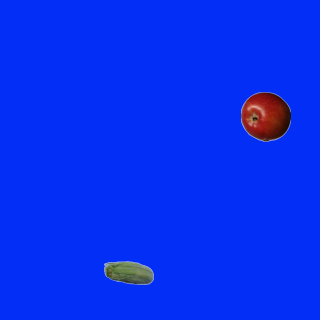Apple Braeburn: (240, 91, 290, 141)
Corn Husk: (103, 249, 153, 299)
